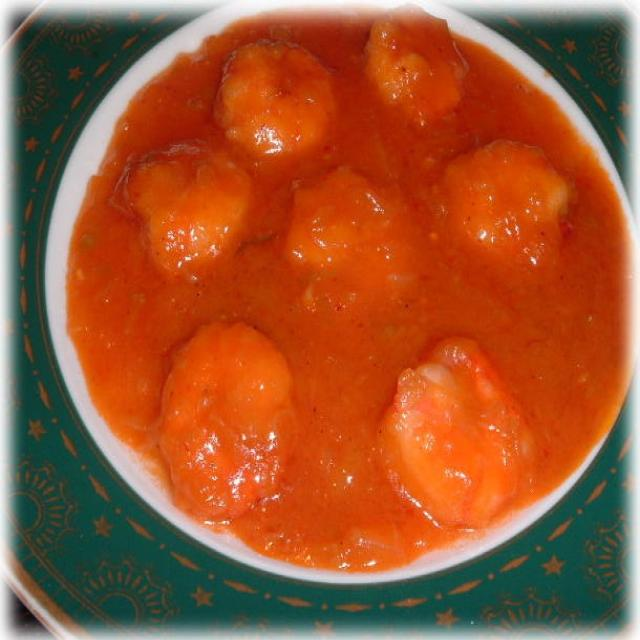熟制海鲜: (24, 20, 615, 612)
